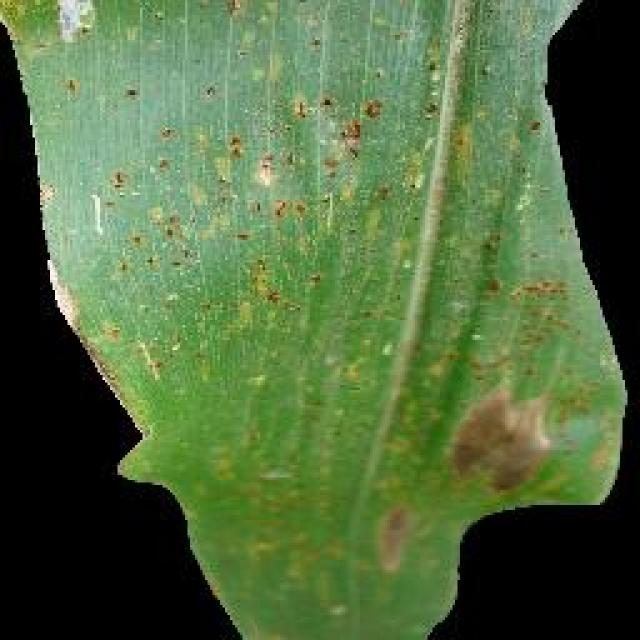Corn Common Rust: (112, 63, 570, 565)
